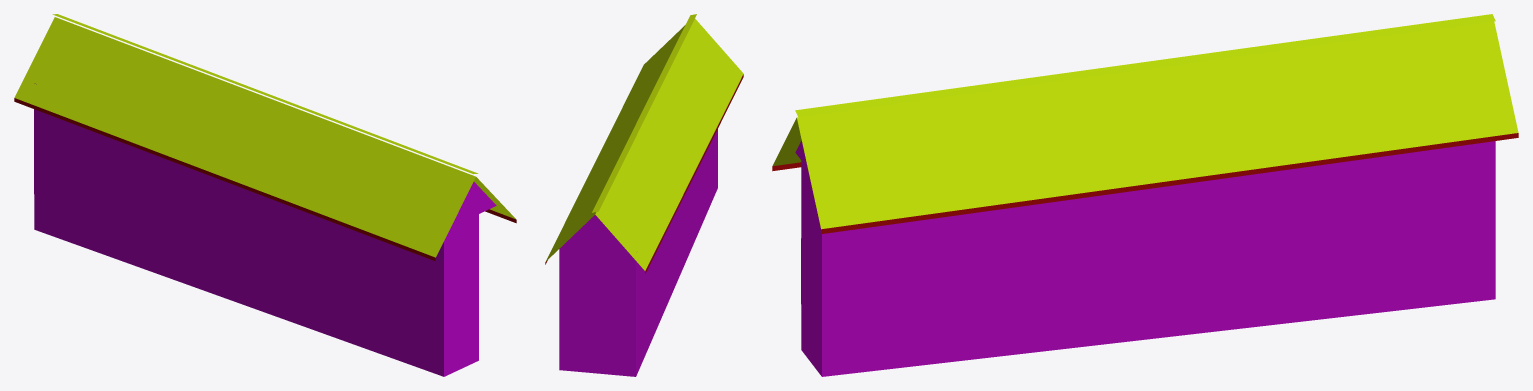
File: svc_51.glb
3 renders of one model, left to right at view 1: azimuth 30°, elevation 25°; view 2: azimuth 150°, elevation 25°; view 3: azimuth 270°, elevation 25°, orthographic. The views are drawn at different scales.
Parts seen in each view (by area): view 1: svc_51; view 2: svc_51; view 3: svc_51.
Part boxes in pixels (box(x1,y1,x2,y2)): svc_51: box(14, 14, 516, 376); svc_51: box(545, 14, 743, 376); svc_51: box(772, 14, 1518, 376).
Bounding box in the file's own units: 8.31 × 6.24 × 16.44.
